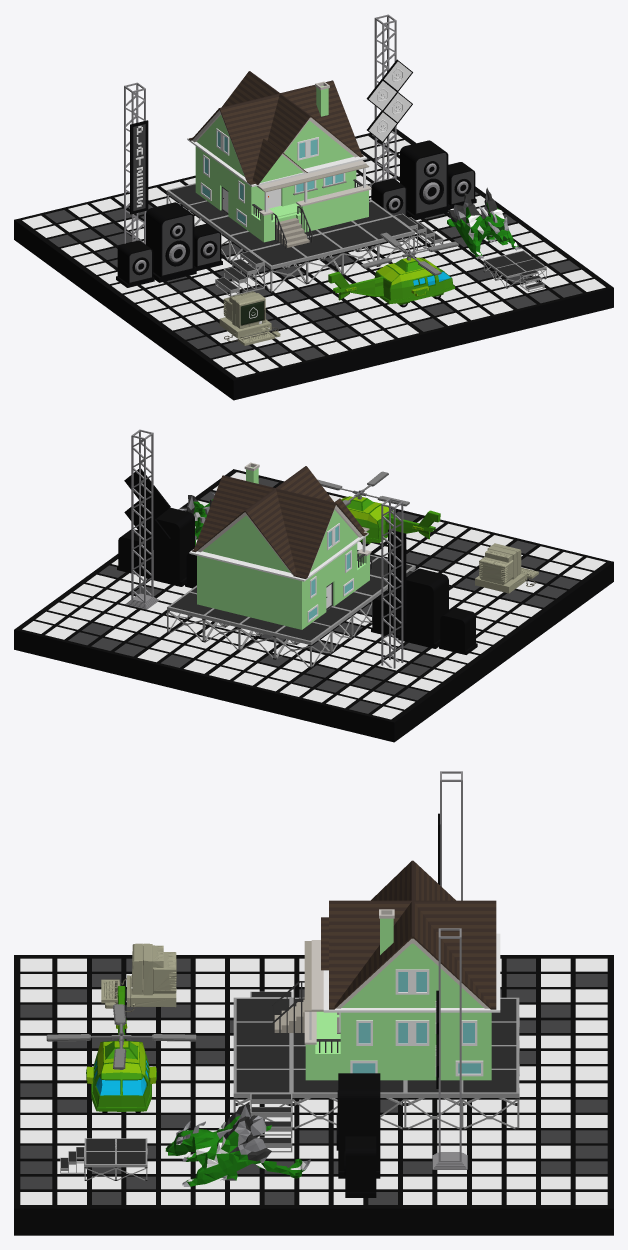
3 views of the same model, one above another, from view 1: azimuth 30°, elevation 25°; view 2: azimuth 150°, elevation 25°; view 3: azimuth 270°, elevation 25° (orthographic). The views are drawn at different scales.
Parts seen in each view (by area): view 1: Cube.008, Cube.274, VEHICLES_HELICOPTER, ANIMAL_DRAGON, OBJRANDOM_RETRO_PC; view 2: Cube.008, Cube.274, VEHICLES_HELICOPTER, OBJRANDOM_RETRO_PC, ANIMAL_DRAGON; view 3: Cube.008, Cube.274, VEHICLES_HELICOPTER, ANIMAL_DRAGON, OBJRANDOM_RETRO_PC.
Boxes of the visible parts, x1,y1,x2,y2 form: Cube.008: (14, 14, 613, 400); Cube.274: (187, 71, 371, 248); VEHICLES_HELICOPTER: (328, 232, 459, 307); ANIMAL_DRAGON: (447, 187, 521, 258); OBJRANDOM_RETRO_PC: (219, 291, 280, 345); Cube.008: (14, 429, 613, 742); Cube.274: (189, 462, 372, 629); VEHICLES_HELICOPTER: (317, 471, 440, 546); OBJRANDOM_RETRO_PC: (475, 543, 538, 593); ANIMAL_DRAGON: (179, 492, 214, 545); Cube.008: (14, 771, 613, 1235); Cube.274: (272, 860, 500, 1080); VEHICLES_HELICOPTER: (46, 986, 196, 1112); ANIMAL_DRAGON: (165, 1102, 310, 1186); OBJRANDOM_RETRO_PC: (101, 943, 176, 1011).
Bounding box in the file's own units: 4000 × 2124 × 4000.
41 materials, 1 textured.
